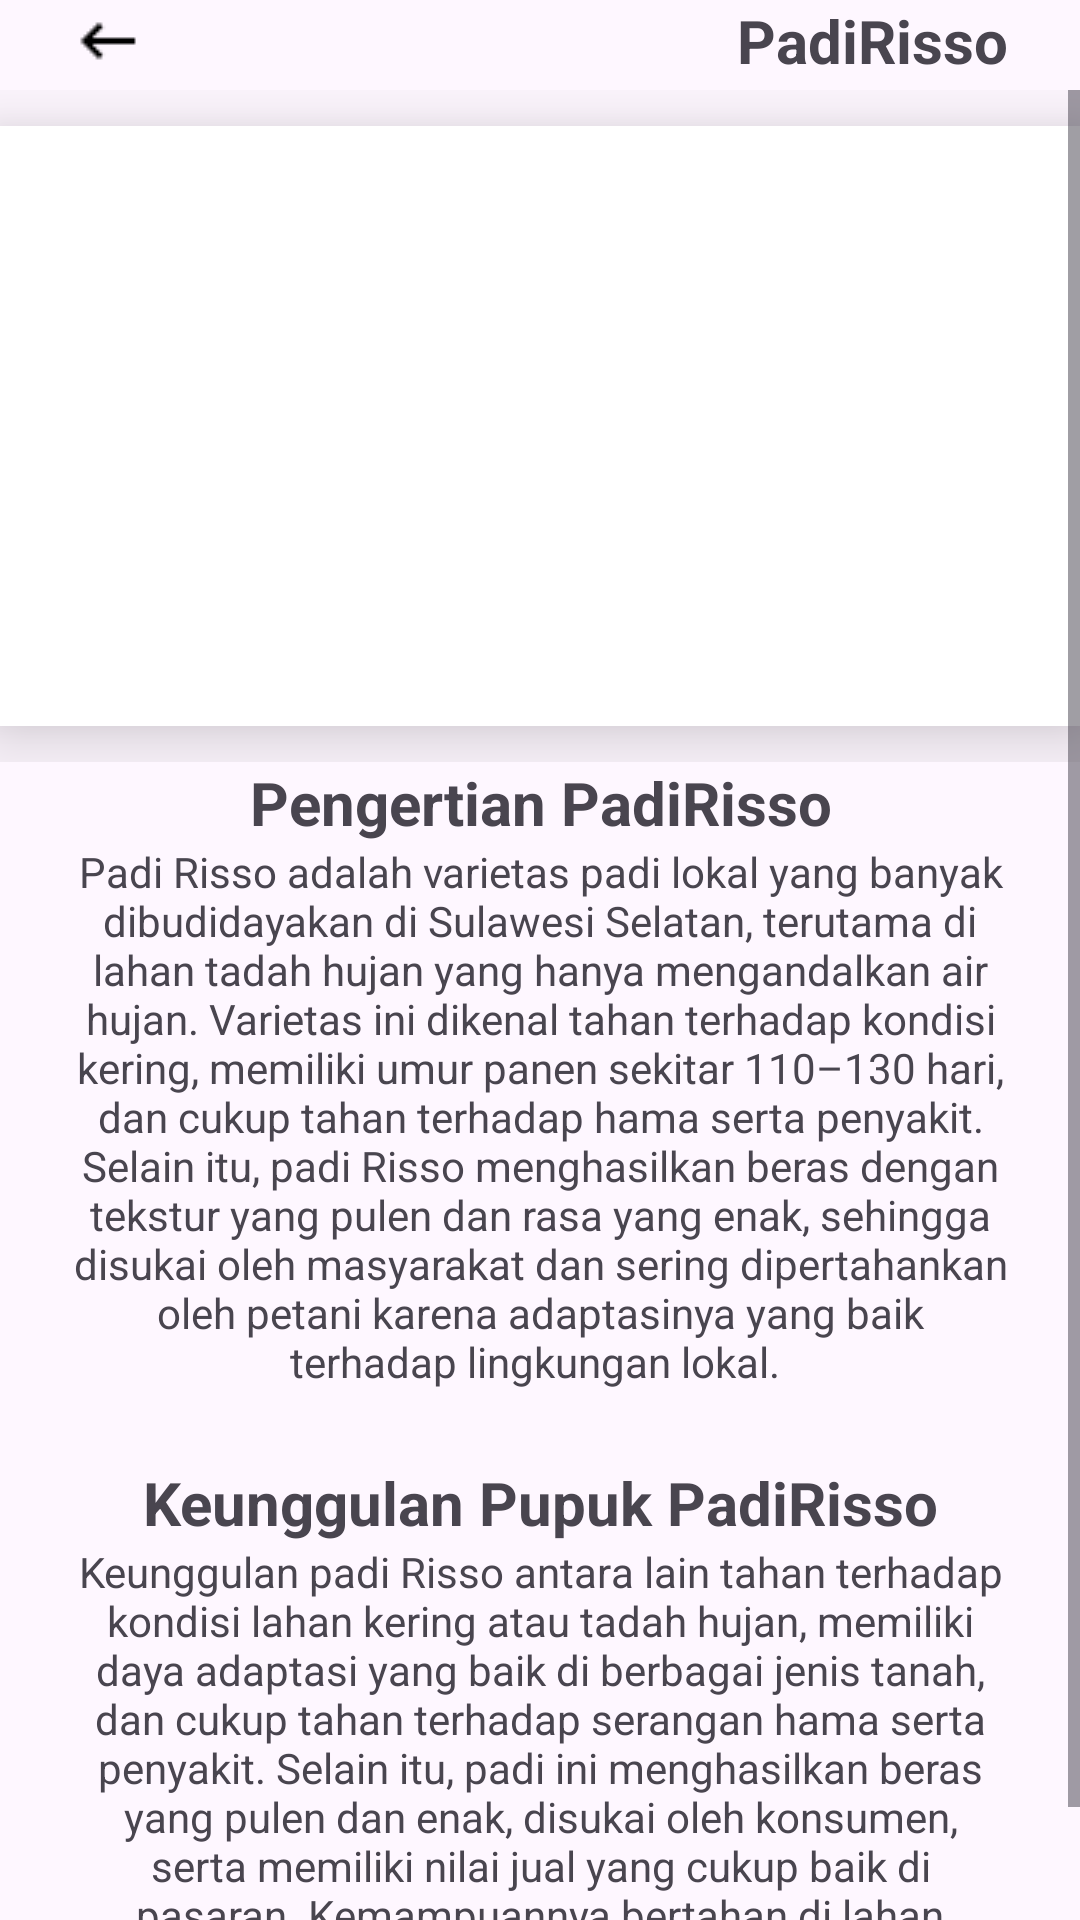

Where icons sit on this 1080px×1920px app screen, as Rect(x1, y1, x2, y2):
keyboard backspace: Rect(80, 22, 136, 60)
